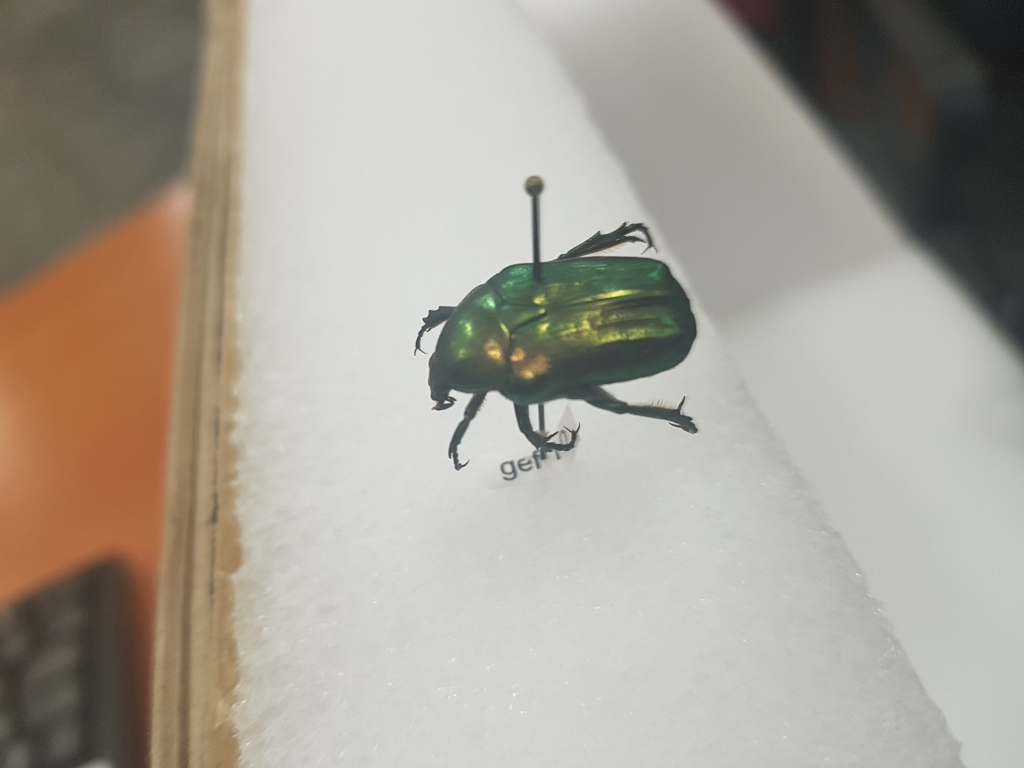Cetonia_aurata: (394, 210, 719, 473)
